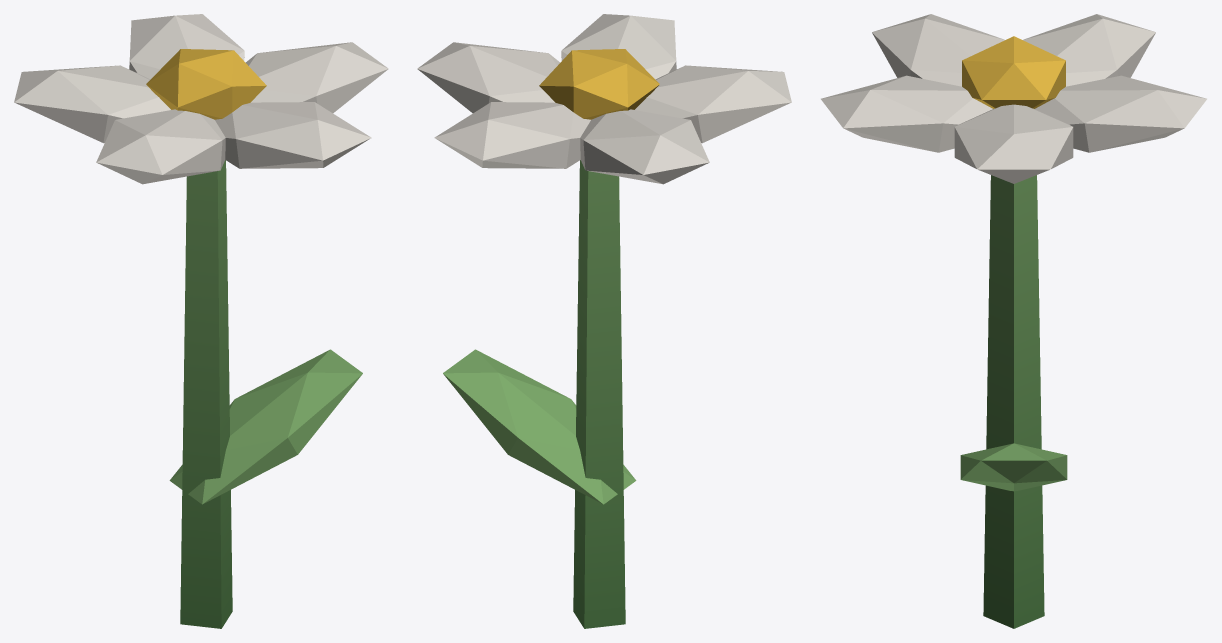
The model's file is FlowerWhite.fbx.
3 views of the same model, side by side, from view 1: azimuth 30°, elevation 25°; view 2: azimuth 150°, elevation 25°; view 3: azimuth 270°, elevation 25° (orthographic).
Parts seen in each view (by area): view 1: FlowerWhite; view 2: FlowerWhite; view 3: FlowerWhite.
Part boxes in pixels (x1=…): FlowerWhite: x1=14, y1=14, x2=388, y2=628; FlowerWhite: x1=417, y1=14, x2=791, y2=628; FlowerWhite: x1=821, y1=14, x2=1206, y2=628.
Size of the model in its own units: 0.0843 by 0.1431 by 0.0886.
